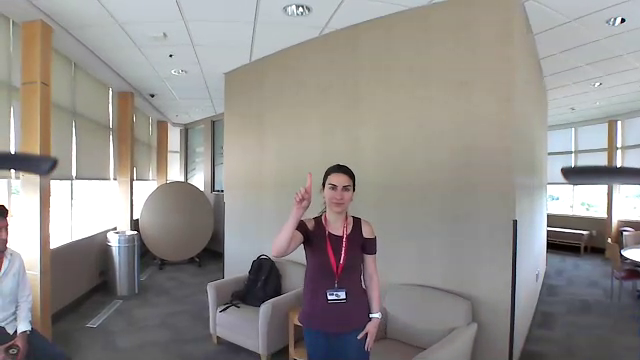up: (287, 170, 315, 216)
